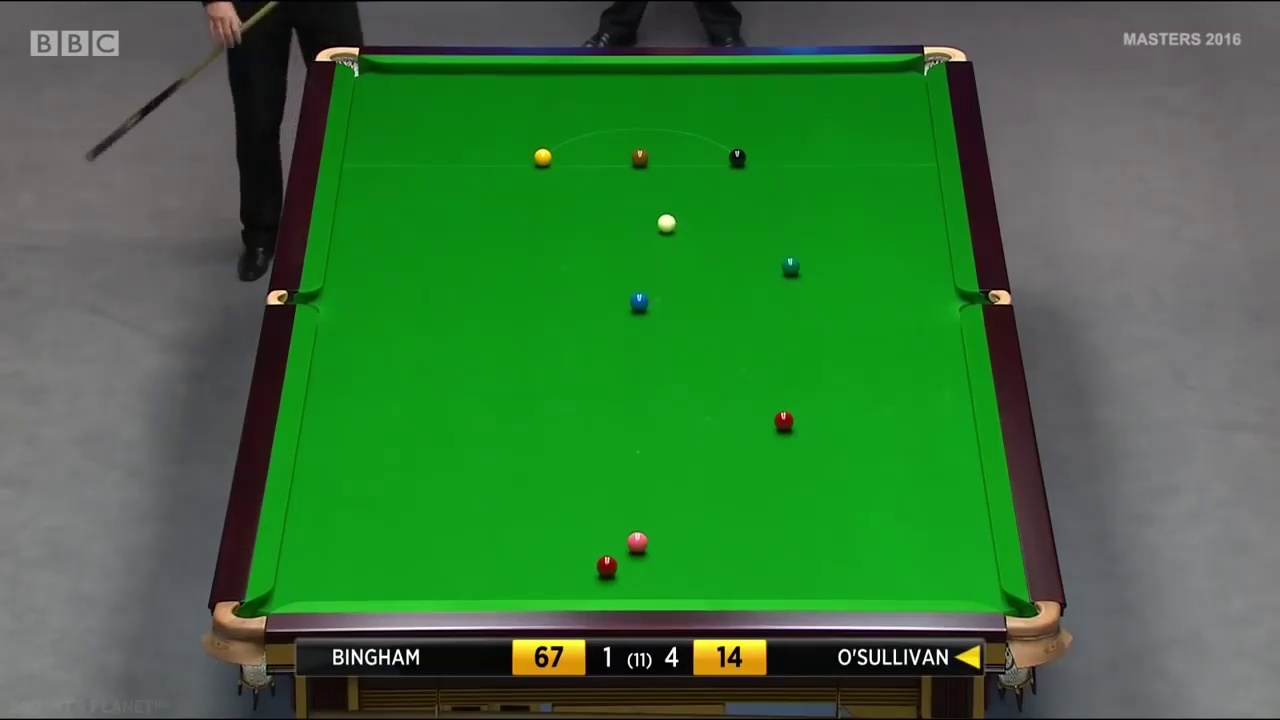ball: (594, 555, 620, 578), (530, 145, 552, 167), (781, 254, 802, 276), (625, 532, 647, 553), (627, 148, 651, 167), (629, 292, 650, 313), (657, 212, 677, 233), (771, 411, 791, 429), (729, 148, 748, 166)
